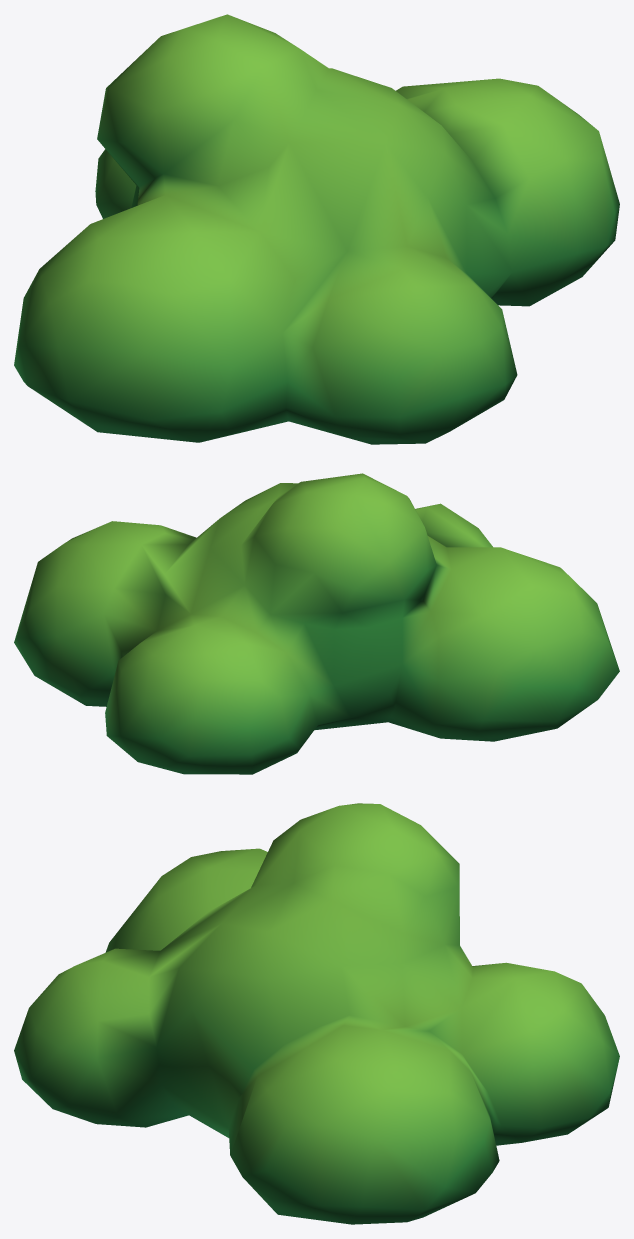
Rendered from bush.glb.
The picture shows the model from 3 angles, top to bottom: view 1: azimuth 30°, elevation 25°; view 2: azimuth 150°, elevation 25°; view 3: azimuth 270°, elevation 25°; orthographic projection. The views are drawn at different scales.
Parts seen in each view (by area): view 1: Bush; view 2: Bush; view 3: Bush.
Part boxes in pixels (x1,y1,x2,y2): Bush: (14, 14, 619, 444); Bush: (14, 473, 619, 774); Bush: (14, 803, 619, 1224).
Size of the model in its own units: 3.39 by 1.61 by 3.12.
